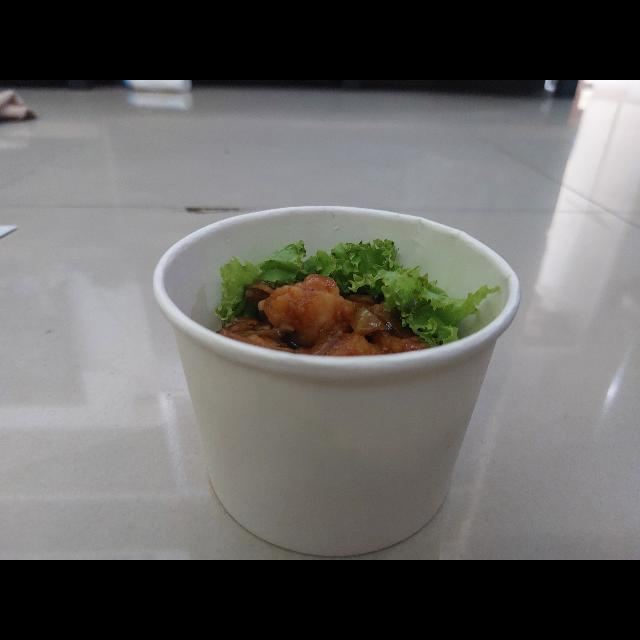rice-bowl: (141, 196, 530, 560)
